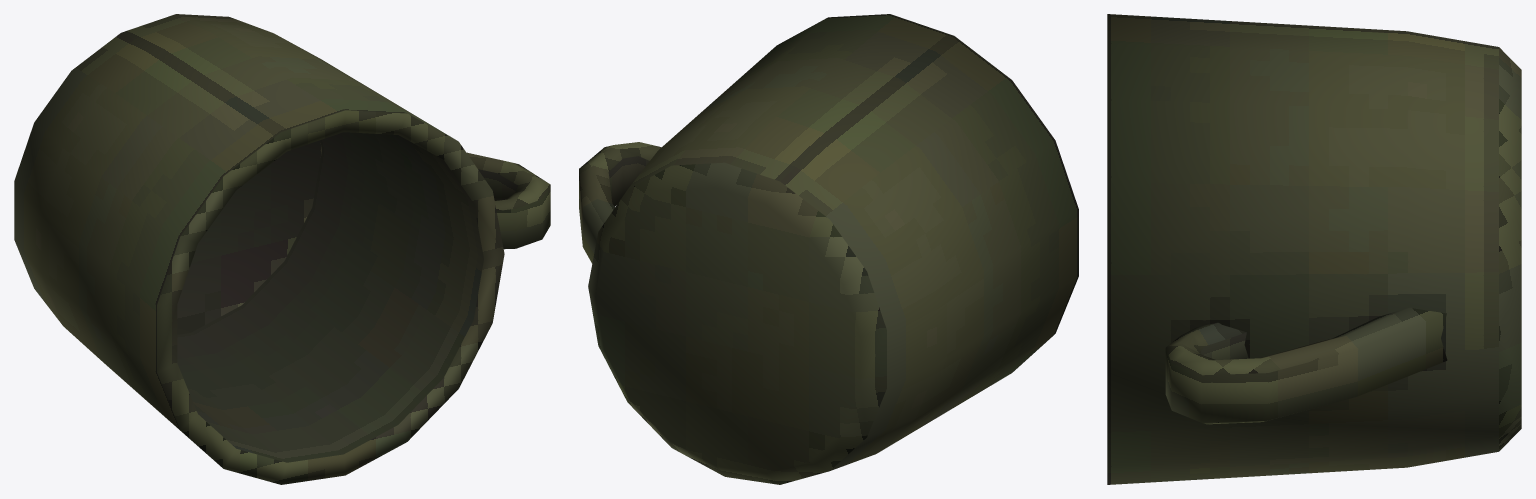
The model's file is p_pent_coffeemug_LOD0.obj.
The picture shows the model from 3 angles, left to right: view 1: azimuth 30°, elevation 25°; view 2: azimuth 150°, elevation 25°; view 3: azimuth 270°, elevation 25°; orthographic projection. The views are drawn at different scales.
Parts seen in each view (by area): view 1: mtl_p_pent_coffeemug; view 2: mtl_p_pent_coffeemug; view 3: mtl_p_pent_coffeemug.
Part boxes in pixels (box(x1,y1,x2,y2)): mtl_p_pent_coffeemug: box(14, 14, 550, 484); mtl_p_pent_coffeemug: box(579, 14, 1078, 484); mtl_p_pent_coffeemug: box(1107, 14, 1521, 484).
Bounding box in the file's own units: 12.73 × 10.24 × 8.98.
